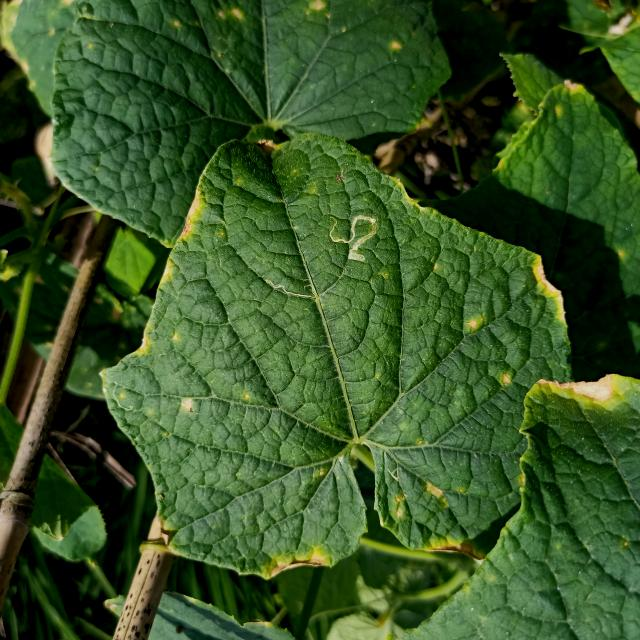disease_cucumber: (388, 480, 448, 521), (135, 326, 182, 360), (178, 394, 196, 414), (465, 316, 482, 333), (502, 372, 512, 387)
